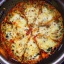pizza: (1, 1, 61, 61)
